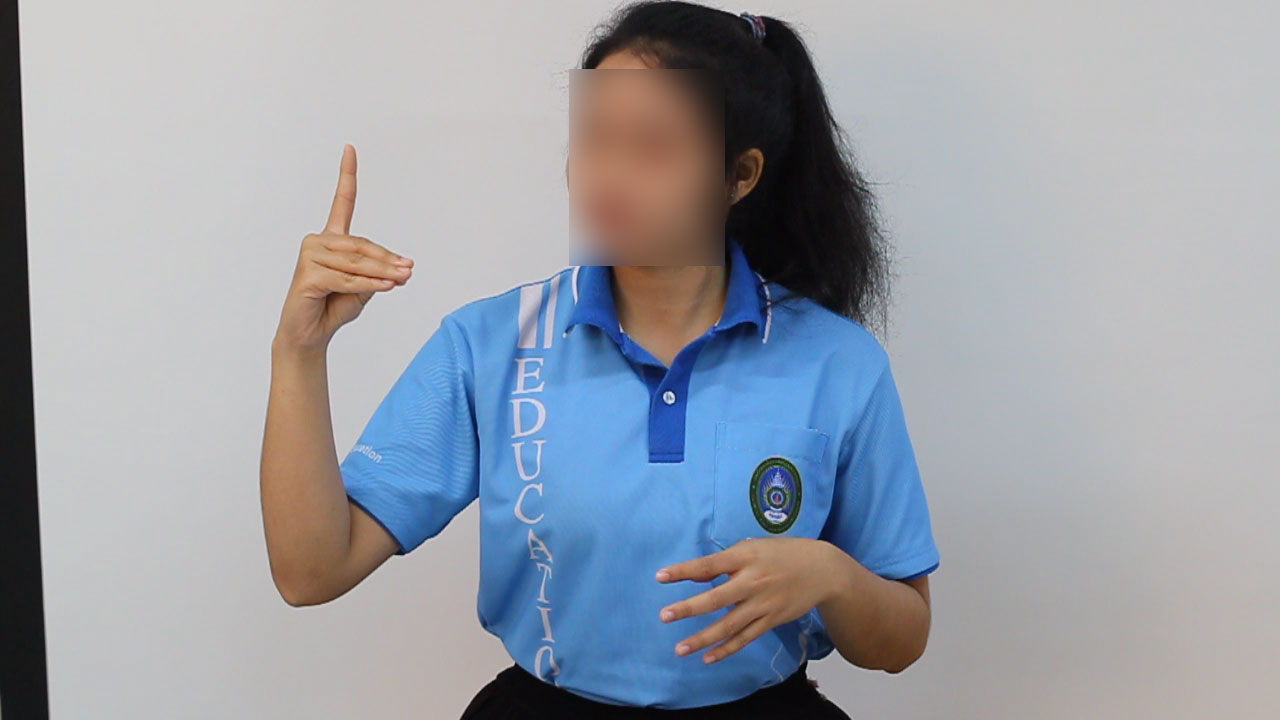dor: (266, 129, 421, 359)
